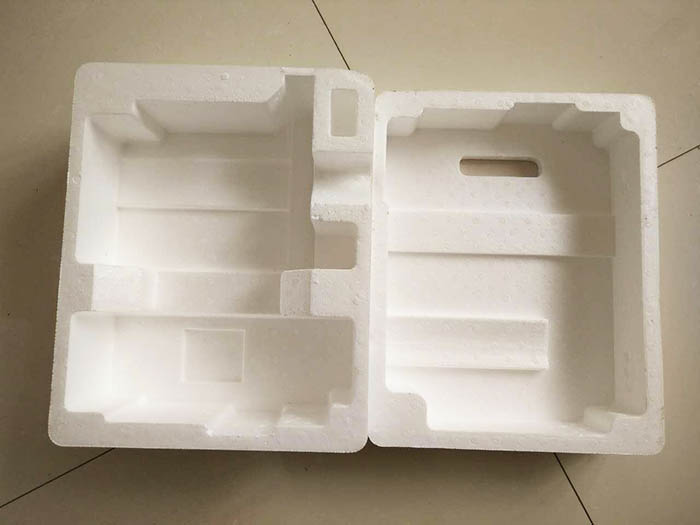Boxes: (49, 64, 662, 453)
